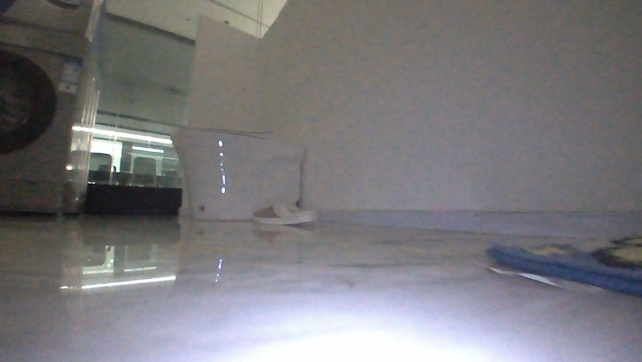blanket: (477, 228, 640, 300), (639, 271, 640, 273)
slipper: (246, 196, 323, 240)
toilet: (167, 121, 302, 220)
washing_machine: (0, 20, 98, 225)
